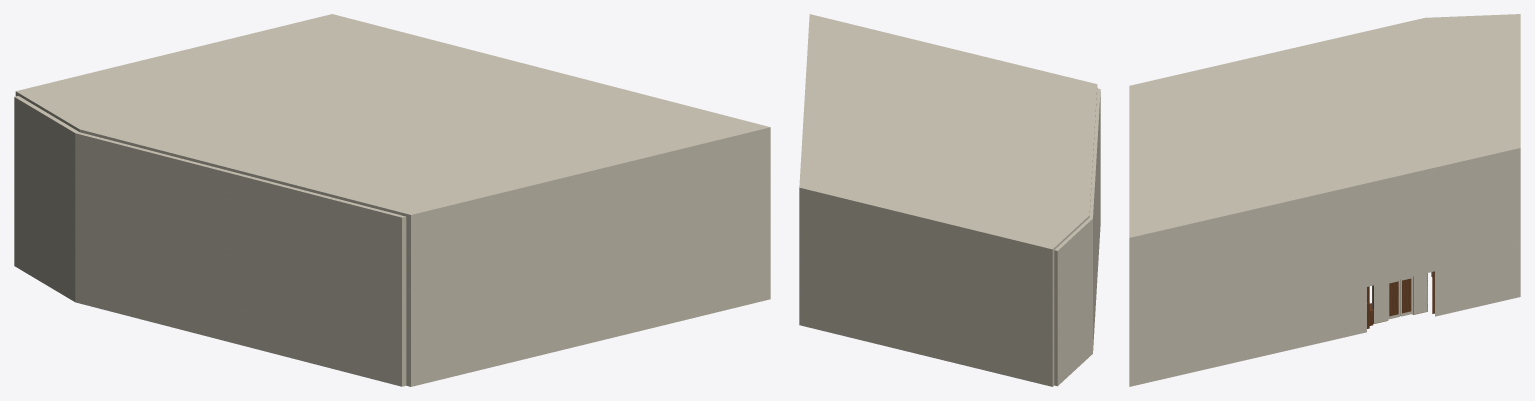
The picture shows the model from 3 angles, left to right: view 1: azimuth 30°, elevation 25°; view 2: azimuth 150°, elevation 25°; view 3: azimuth 270°, elevation 25°; orthographic projection. The views are drawn at different scales.
Visible parts, largest first — view 1: PavilionRoof, HeldFrontageOpaqueEnclosure, AftPartyWall, InnerAftPartyReturn; view 2: PavilionRoof, ForePartyWall, HeldFrontageOpaqueEnclosure, InnerForePartyReturn; view 3: PavilionRoof, InnerAftPartyReturn, InnerForePartyReturn, ArrivalHeader, PrivateEntry_01_ENTRY_PocketSkin_1_1, PrivateEntry_01_ENTRY_PocketSkin_-1_1.
Part boxes in pixels (box(x1,y1,x2,y2)): PavilionRoof: box(15, 14, 770, 217); HeldFrontageOpaqueEnclosure: box(14, 96, 406, 386); AftPartyWall: box(406, 131, 770, 386); InnerAftPartyReturn: box(766, 130, 770, 300); PavilionRoof: box(799, 14, 1097, 251); ForePartyWall: box(799, 190, 1054, 386); HeldFrontageOpaqueEnclosure: box(1054, 88, 1100, 386); InnerForePartyReturn: box(799, 190, 802, 325); PavilionRoof: box(1129, 14, 1520, 240); InnerAftPartyReturn: box(1129, 185, 1366, 386); InnerForePartyReturn: box(1435, 150, 1520, 316); ArrivalHeader: box(1367, 170, 1434, 286); PrivateEntry_01_ENTRY_PocketSkin_1_1: box(1373, 282, 1388, 323); PrivateEntry_01_ENTRY_PocketSkin_-1_1: box(1413, 273, 1427, 314).
Bounding box in the file's own units: 29.86 × 9.2 × 21.88.
192 materials, 185 textured.
